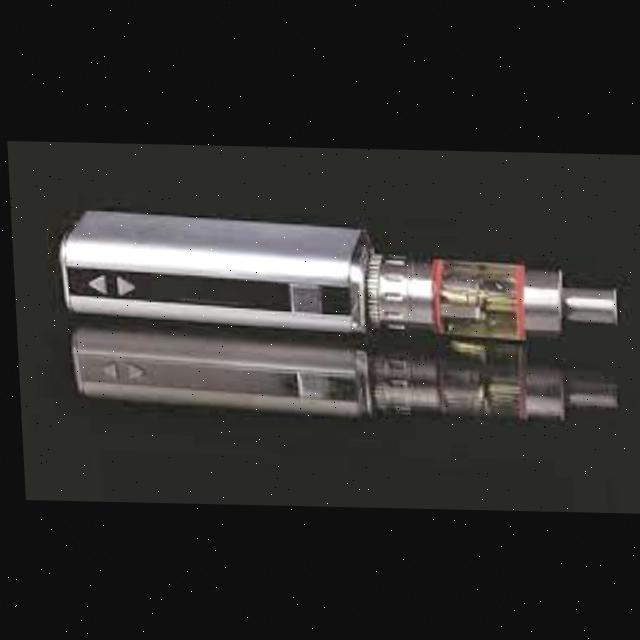vape: (55, 207, 616, 341)
